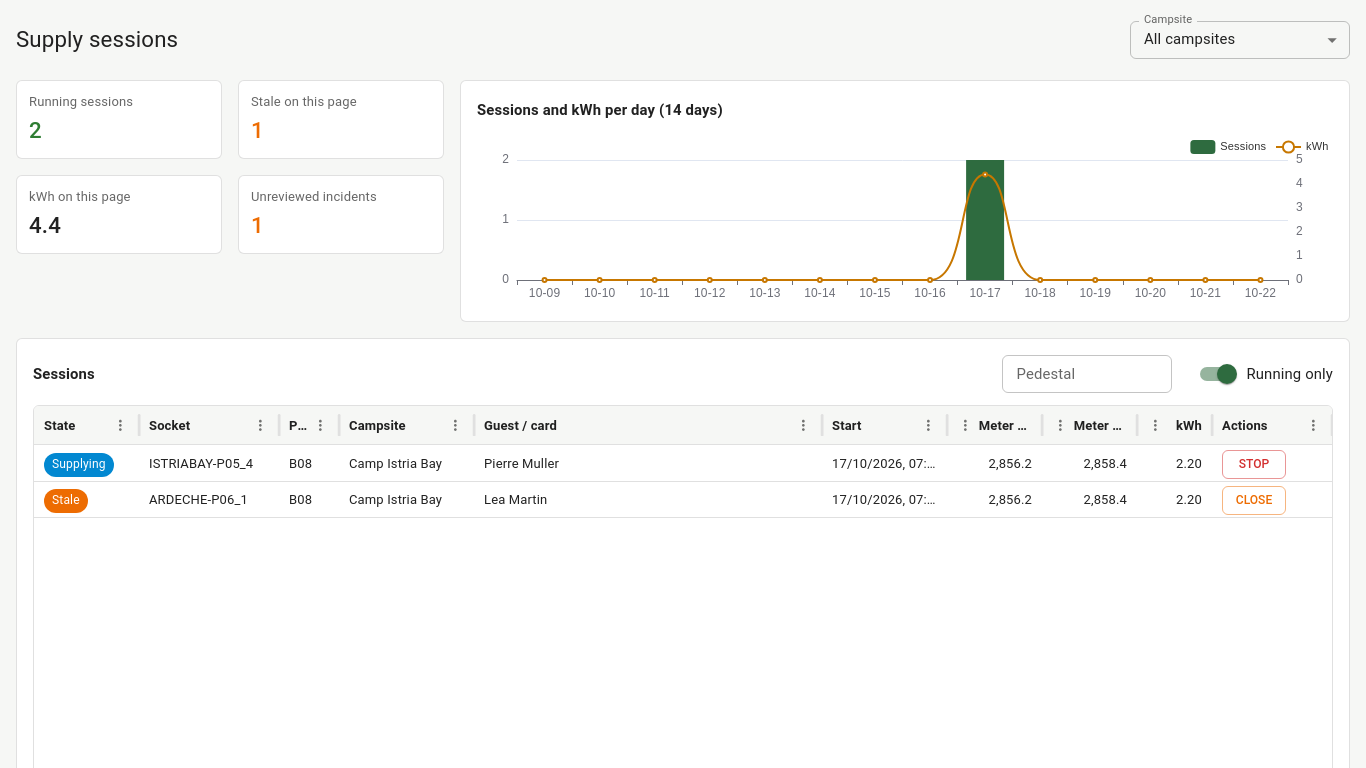
supply sessions tab › stops a running supply remotely after confirmation
Click the button with test id "stop-11".
click(1254, 465)  # box x1=1222 y1=450 x2=1286 y2=479
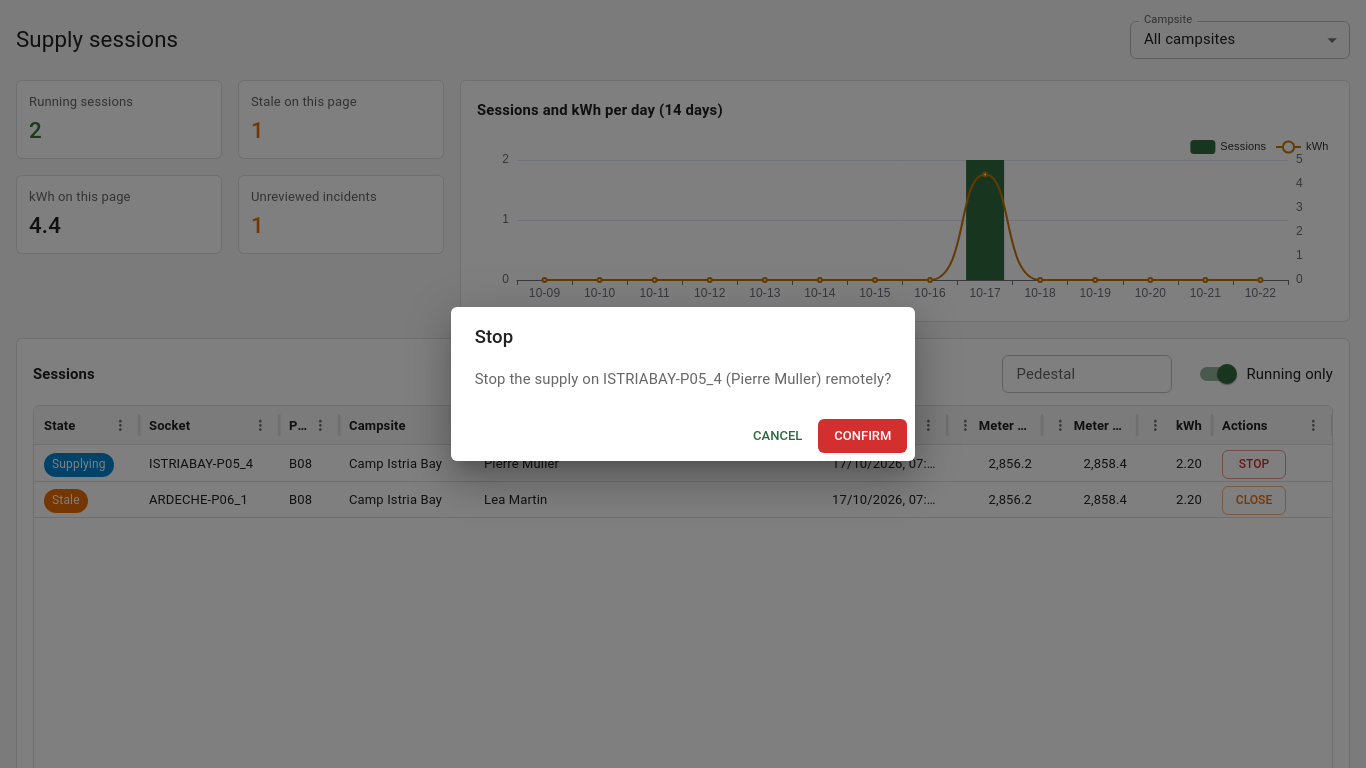
Click the button "Confirm".
click(863, 436)  # box x1=818 y1=419 x2=907 y2=453
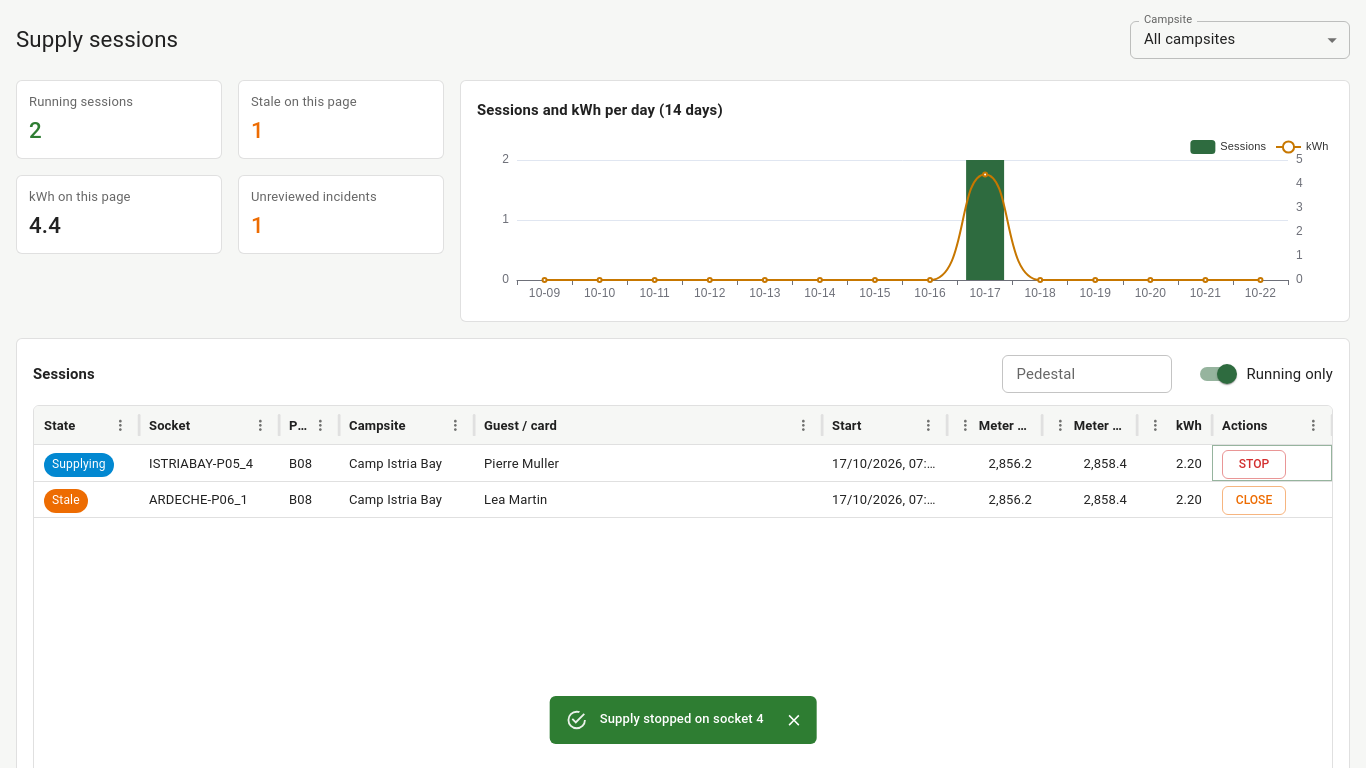
Expected: the message with test id "notification" reads "Supply stopped on socket 4", x1=600 y1=711 x2=764 y2=726
